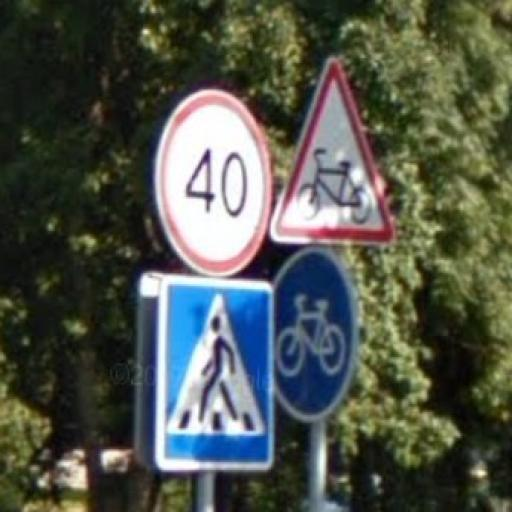traffic_sign: (156, 281, 279, 479), (269, 58, 397, 243), (155, 90, 277, 277), (276, 245, 357, 422)
